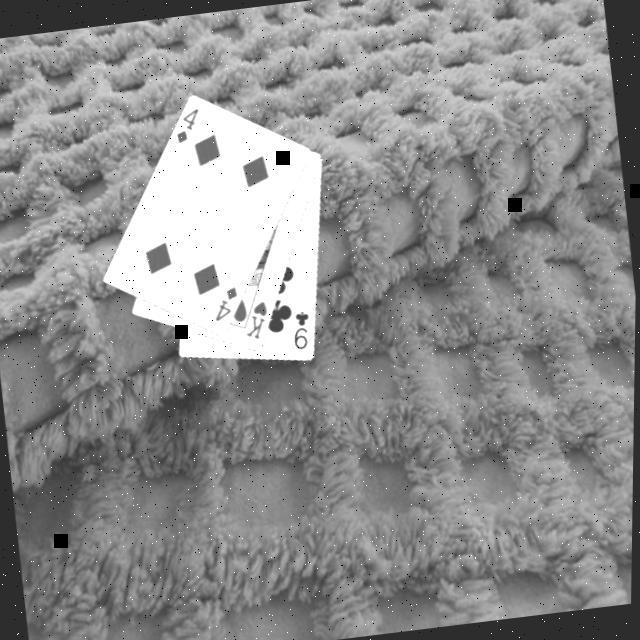4D: (167, 103, 203, 146), (206, 281, 241, 322)
9C: (286, 305, 315, 352)
KH: (237, 295, 273, 342)
